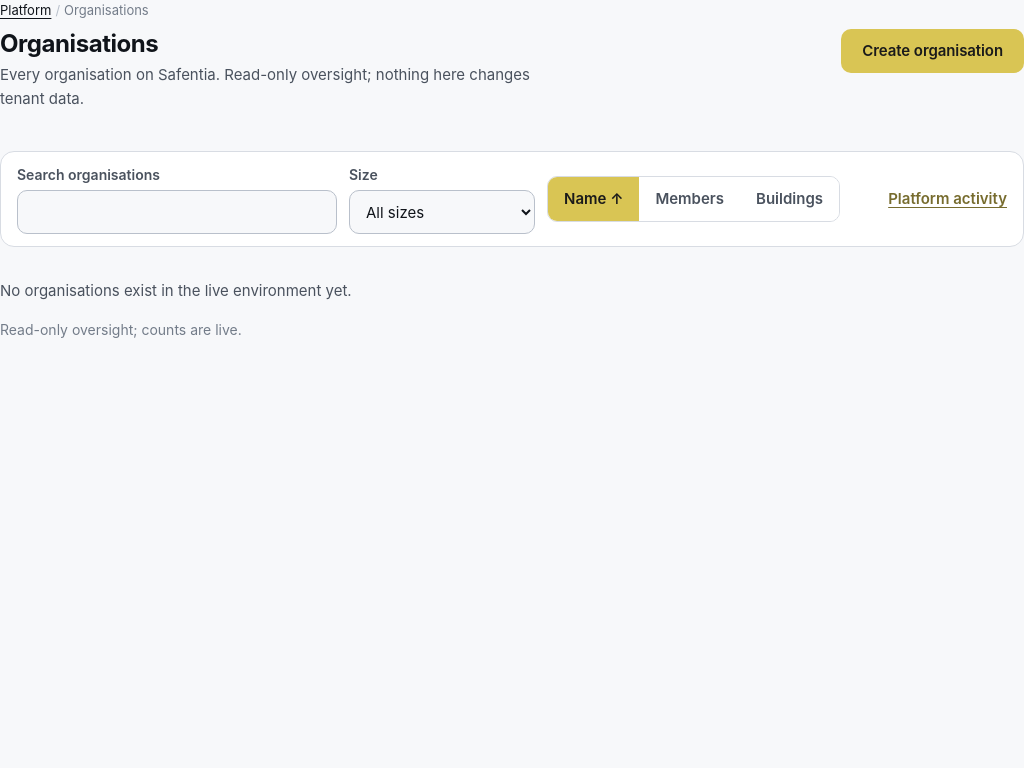
OrgsOverview › offers the operator-only create entry on the overview, and opens the dialog
Click the button "Create organisation". click: (933, 51)
box: [841,29,1023,73]
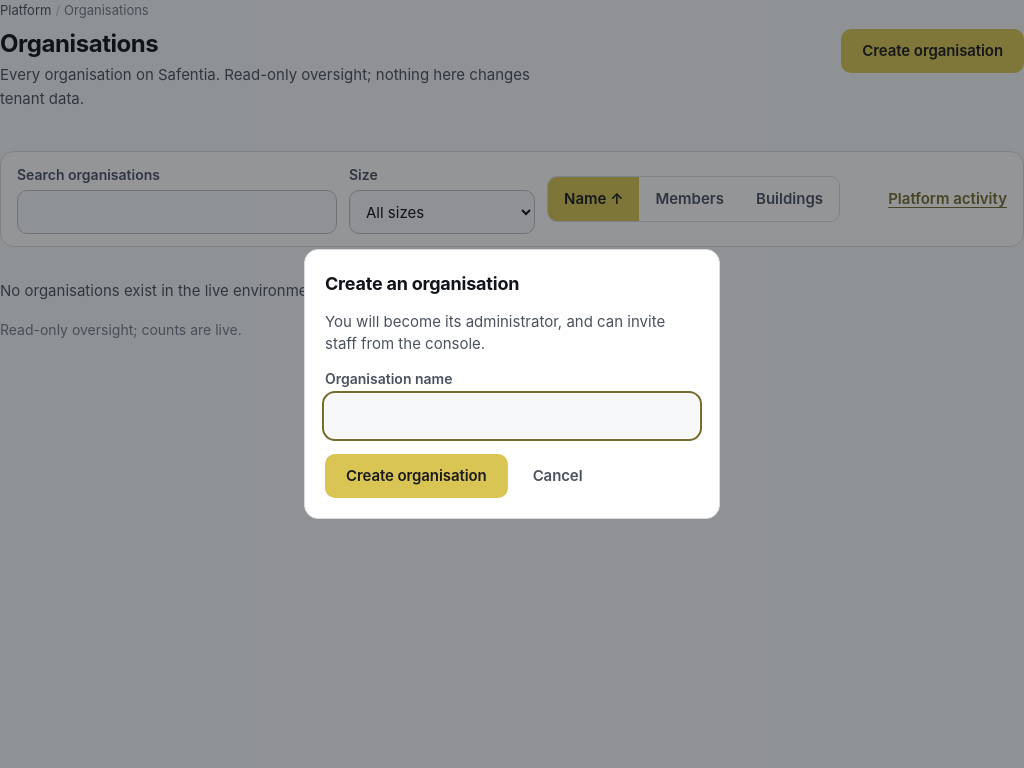
Result: the dialog "Create an organisation" is shown at [304,249,720,519]
